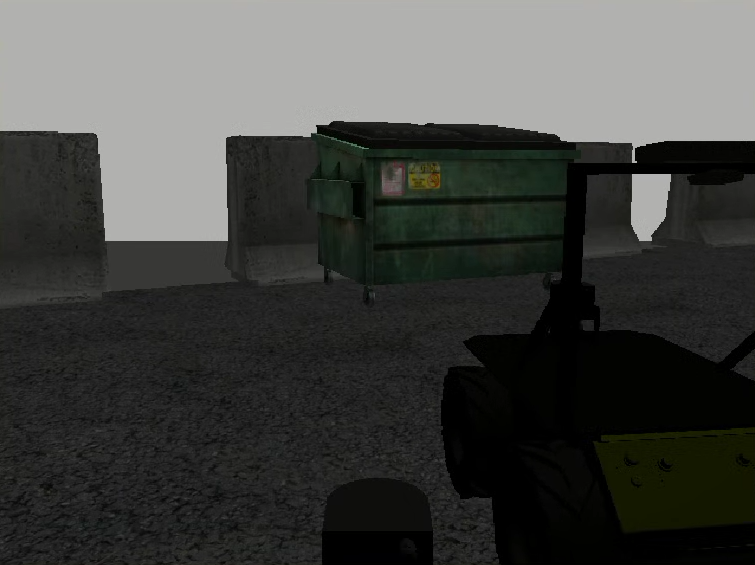husky: (440, 329, 755, 565)
